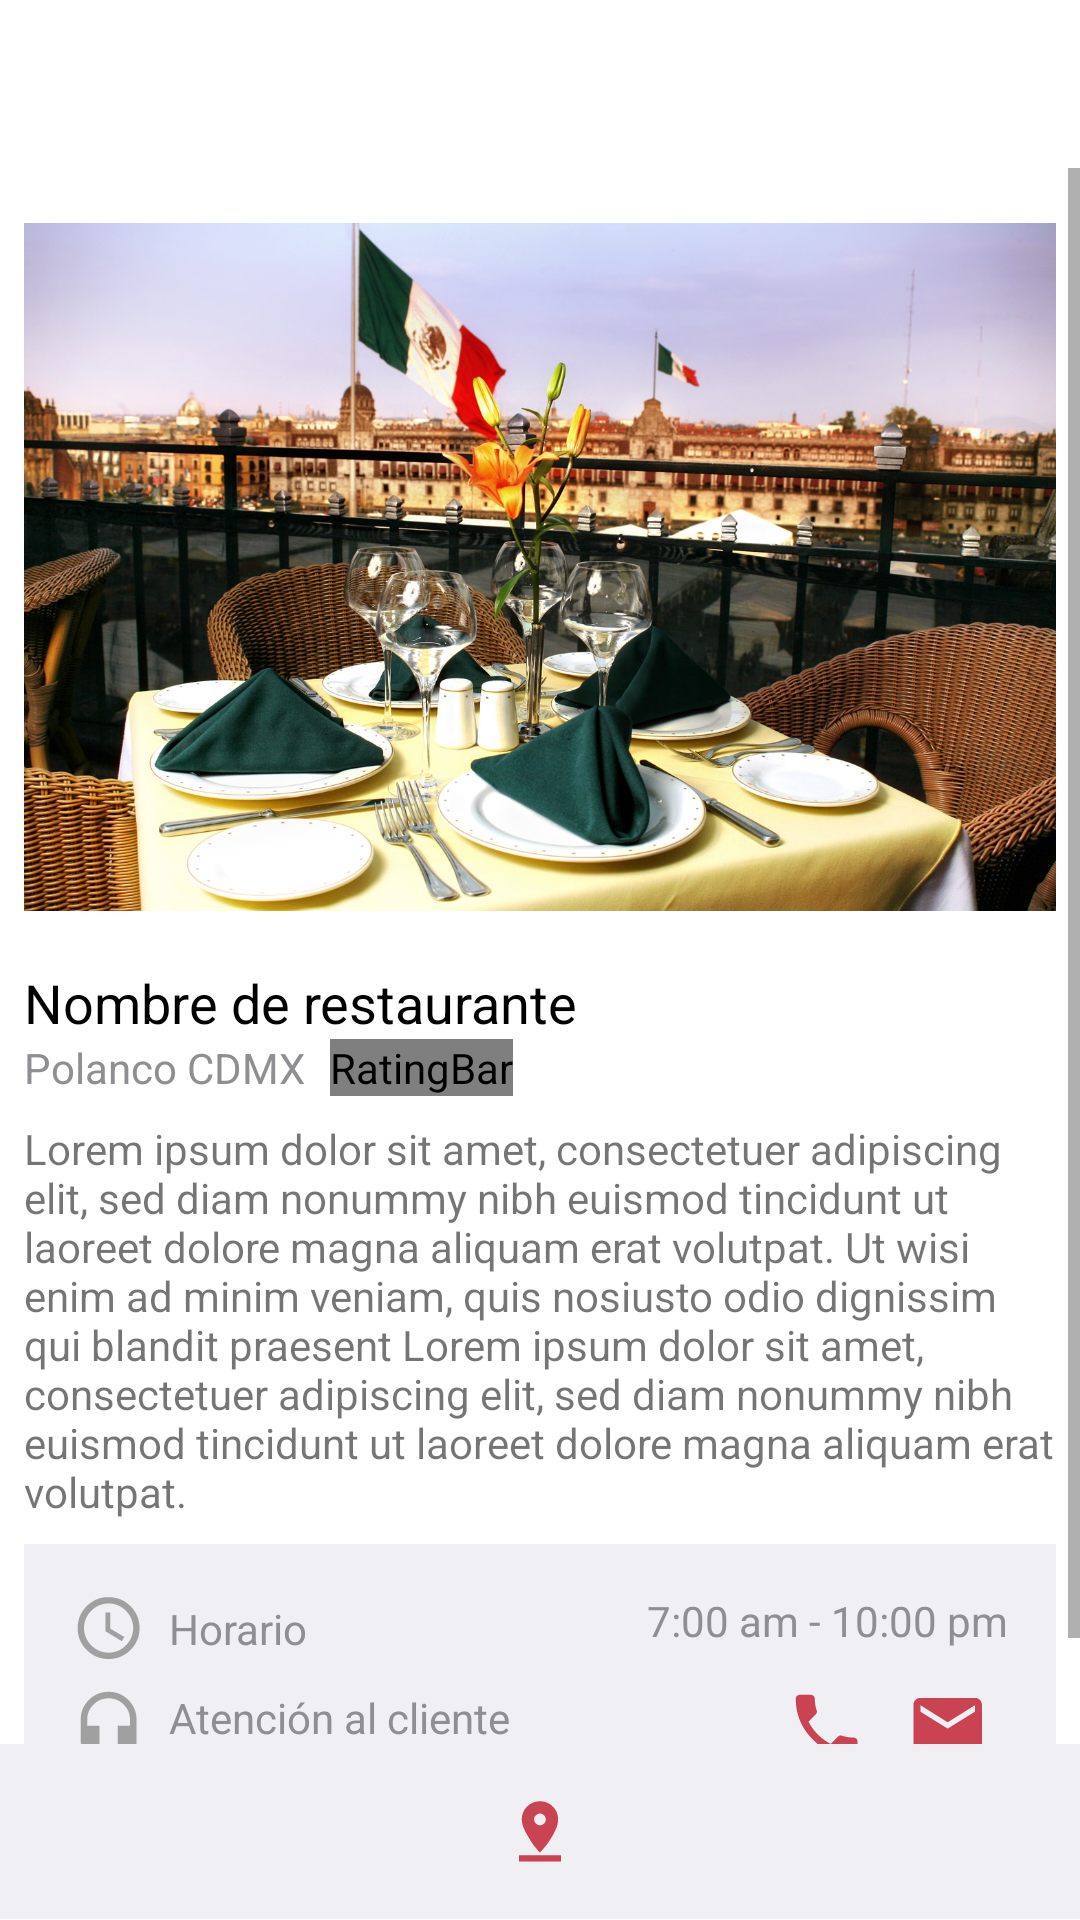

Named icons in this screenshot (1080w x 1920h) and their bounding boxes, (x1, y1, x2, y2):
location: (519, 1801, 561, 1862)
